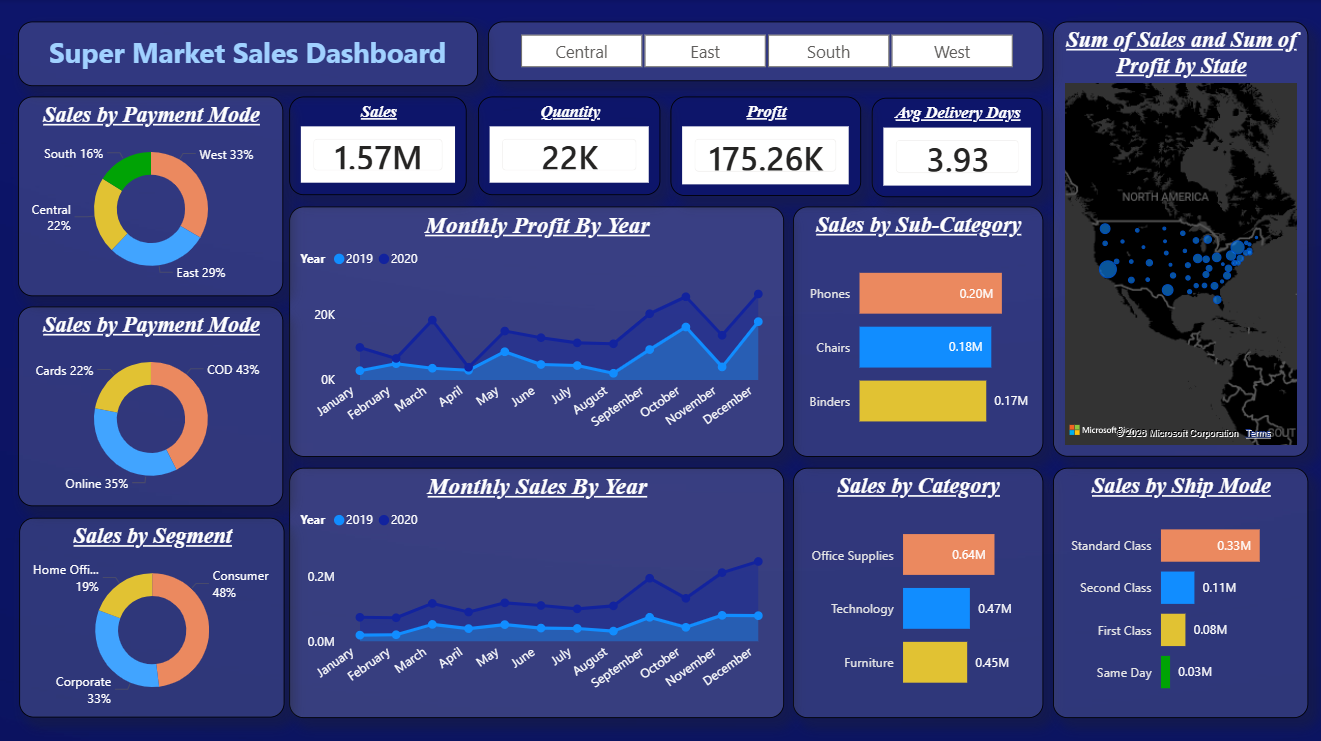

The page's visual inventory and layout, read from the dashboard file:
{"tool":"powerbi","page":{"name":"Page 1","canvas":[1280,720],"ordinal":0},"visuals":[{"type":"clusteredBarChart","title":"Sales by Category","fields":{"Category":["SuperStore_Sales_Dataset.Category"],"Y":["Sum(SuperStore_Sales_Dataset.Sales)"]},"box":[767.5,452.5,241.2,241.2],"z":0},{"type":"clusteredBarChart","title":"Sales by Ship Mode","fields":{"Y":["Sum(SuperStore_Sales_Dataset.Sales)"],"Category":["SuperStore_Sales_Dataset.Ship Mode"]},"box":[1018.8,452.5,246.2,241.2],"z":1000},{"type":"clusteredBarChart","title":"Sales by Sub-Category","fields":{"Y":["Sum(SuperStore_Sales_Dataset.Sales)"],"Category":["SuperStore_Sales_Dataset.Sub-Category"]},"box":[767.5,200,241.2,241.2],"z":2000},{"type":"stackedAreaChart","title":"Monthly Sales By Year","fields":{"Y":["Sum(SuperStore_Sales_Dataset.Sales)"],"Category":["SuperStore_Sales_Dataset.Order Date.Variation.Date Hierarchy.Month","SuperStore_Sales_Dataset.Order Date.Variation.Date Hierarchy.Day"],"Series":["SuperStore_Sales_Dataset.Order Date.Variation.Date Hierarchy.Year"]},"box":[281.2,452.5,477.5,241.2],"z":3000},{"type":"stackedAreaChart","title":"Monthly Profit By Year","fields":{"Category":["SuperStore_Sales_Dataset.Order Date.Variation.Date Hierarchy.Month","SuperStore_Sales_Dataset.Order Date.Variation.Date Hierarchy.Day"],"Series":["SuperStore_Sales_Dataset.Order Date.Variation.Date Hierarchy.Year"],"Y":["Sum(SuperStore_Sales_Dataset.Profit)"]},"box":[281.2,200,477.5,241.2],"z":4000},{"type":"map","fields":{"Category":["SuperStore_Sales_Dataset.State"],"Size":["Sum(SuperStore_Sales_Dataset.Sales)"]},"box":[1018.8,21.2,246.2,420],"z":5000},{"type":"donutChart","title":"Sales by Segment","fields":{"Category":["SuperStore_Sales_Dataset.Segment"],"Y":["Sum(SuperStore_Sales_Dataset.Sales)"]},"box":[20,501.2,256.2,192.5],"z":6000},{"type":"donutChart","title":"Sales by Payment Mode","fields":{"Category":["SuperStore_Sales_Dataset.Payment Mode"],"Y":["Sum(SuperStore_Sales_Dataset.Sales)"]},"box":[18.8,296.2,256.2,192.5],"z":7000},{"type":"slicer","fields":{"Values":["SuperStore_Sales_Dataset.Region"]},"box":[472.5,21.2,536.2,57.5],"z":8000},{"type":"textbox","box":[18.8,21.2,443.8,62.5],"z":9000},{"type":"donutChart","title":"Sales by Payment Mode","fields":{"Y":["Sum(SuperStore_Sales_Dataset.Sales)"],"Category":["SuperStore_Sales_Dataset.Region"]},"box":[18.8,93.8,256.2,192.5],"z":10000},{"type":"cardVisual","title":"Sales","fields":{"Data":["Sum(SuperStore_Sales_Dataset.Sales)"]},"box":[281.1,94.1,171.3,95.3],"z":11000},{"type":"cardVisual","title":"Quantity","fields":{"Data":["Sum(SuperStore_Sales_Dataset.Quantity)"]},"box":[463.3,94.1,176.1,95.3],"z":12000},{"type":"cardVisual","title":"Avg Delivery Days","fields":{"Data":["Avg(SuperStore_Sales_Dataset.AvgDelivery)"]},"box":[843.8,95,165,96.2],"z":13000},{"type":"cardVisual","title":"Profit","fields":{"Data":["Sum(SuperStore_Sales_Dataset.Profit)"]},"box":[648.8,93.8,183.8,96.2],"z":14000}]}

Visuals, with their boxes in screenshot pixels (x1, y1, x2, y2), scaled from the page's 1280x720 canvas onto the 1321x741 screenshot:
"Sales by Category" clusteredBarChart: detection(792, 466, 1041, 714)
"Sales by Ship Mode" clusteredBarChart: detection(1051, 466, 1306, 714)
"Sales by Sub-Category" clusteredBarChart: detection(792, 206, 1041, 454)
"Monthly Sales By Year" stackedAreaChart: detection(290, 466, 783, 714)
"Monthly Profit By Year" stackedAreaChart: detection(290, 206, 783, 454)
map - SuperStore_Sales_Dataset.State x Sum(SuperStore_Sales_Dataset.Sales): detection(1051, 22, 1306, 454)
"Sales by Segment" donutChart: detection(21, 516, 285, 714)
"Sales by Payment Mode" donutChart: detection(19, 305, 284, 503)
slicer - SuperStore_Sales_Dataset.Region: detection(488, 22, 1041, 81)
textbox: detection(19, 22, 477, 86)
"Sales by Payment Mode" donutChart: detection(19, 97, 284, 295)
"Sales" cardVisual: detection(290, 97, 467, 195)
"Quantity" cardVisual: detection(478, 97, 660, 195)
"Avg Delivery Days" cardVisual: detection(871, 98, 1041, 197)
"Profit" cardVisual: detection(670, 97, 859, 196)
